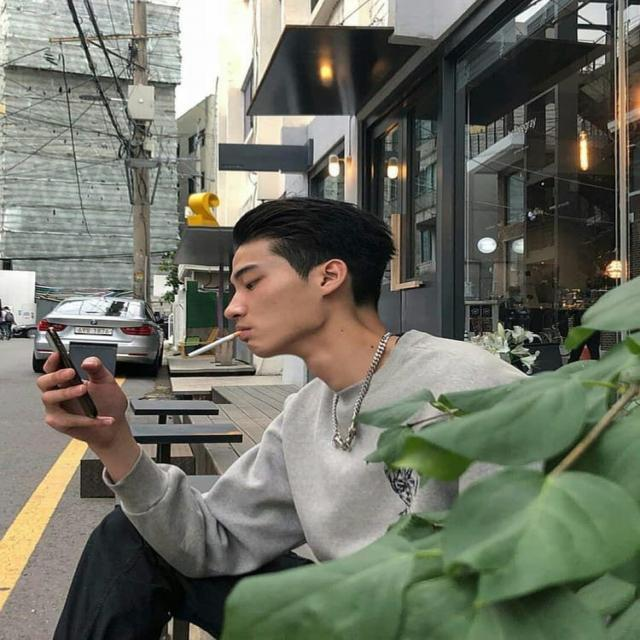cigarette: (166, 319, 270, 371)
